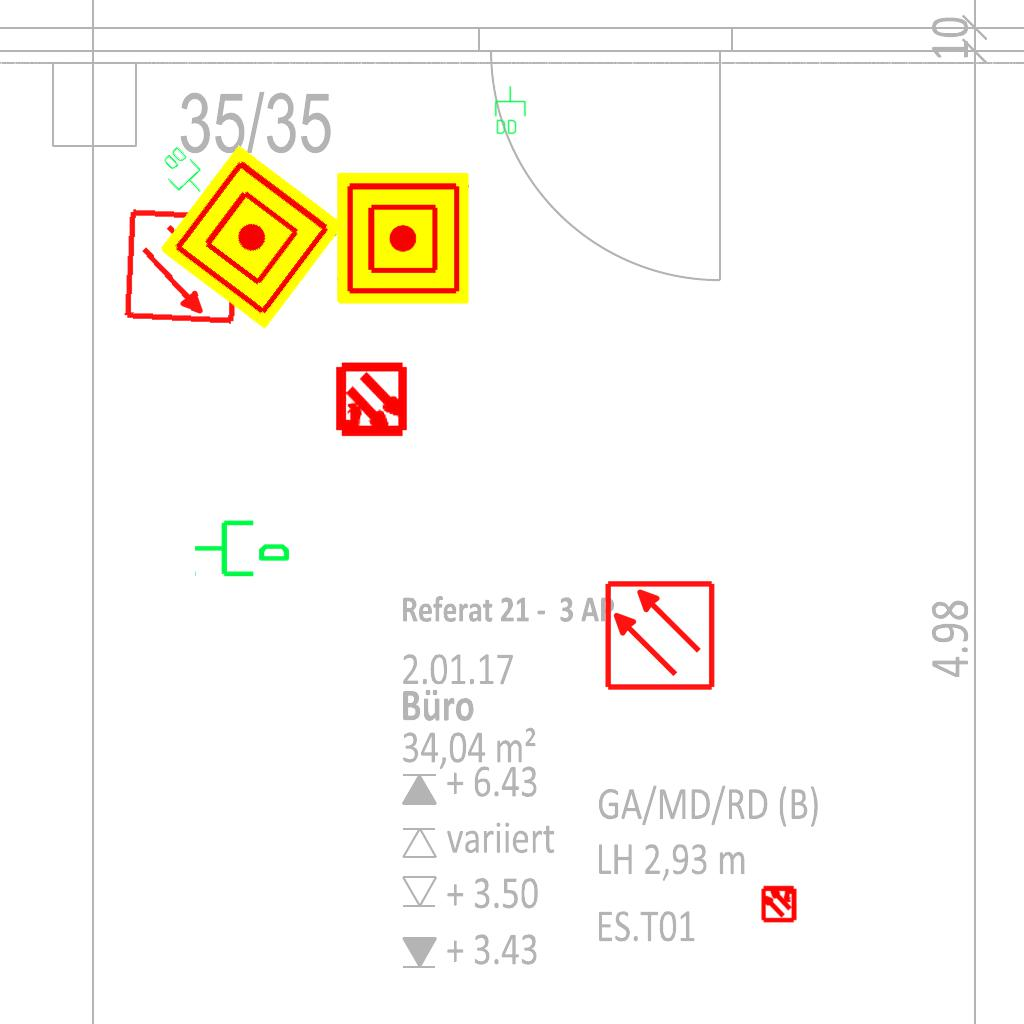Datenanschluss_einfach: (192, 512, 292, 581)
Datenanschluss_zweifach: (153, 142, 214, 204), (493, 85, 527, 136)
NAM-Nichtautomatischer_Melder: (159, 144, 345, 330), (337, 172, 469, 304)
OT_Multisensormelder_(Kombination_RMO_WMD): (315, 345, 428, 458), (751, 875, 807, 931)
RMO_Rauchmelder_optischer: (123, 207, 242, 326), (603, 579, 716, 692)
